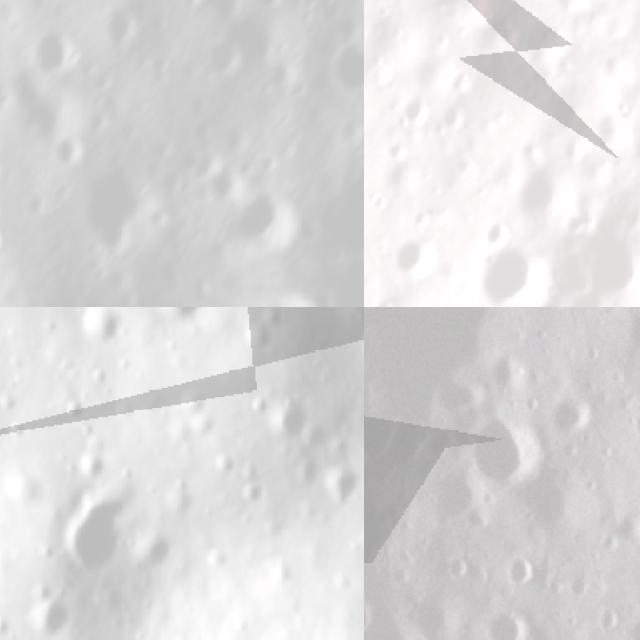crater: (52, 142, 177, 273), (455, 404, 559, 507), (223, 174, 308, 270), (48, 494, 138, 582), (579, 209, 640, 306), (17, 16, 86, 85), (482, 239, 548, 307), (515, 154, 573, 227), (543, 380, 605, 440), (384, 232, 446, 286), (257, 396, 317, 451), (16, 593, 83, 640), (475, 596, 546, 640), (95, 0, 152, 51), (321, 32, 364, 98), (316, 463, 364, 518), (129, 526, 177, 581), (71, 307, 125, 354), (493, 546, 541, 590), (432, 542, 474, 588), (364, 576, 390, 640), (398, 91, 436, 133), (70, 446, 107, 489), (425, 0, 482, 26), (151, 307, 208, 331), (385, 136, 419, 167), (623, 395, 640, 448), (393, 623, 440, 640), (556, 0, 600, 16), (622, 606, 640, 640)
